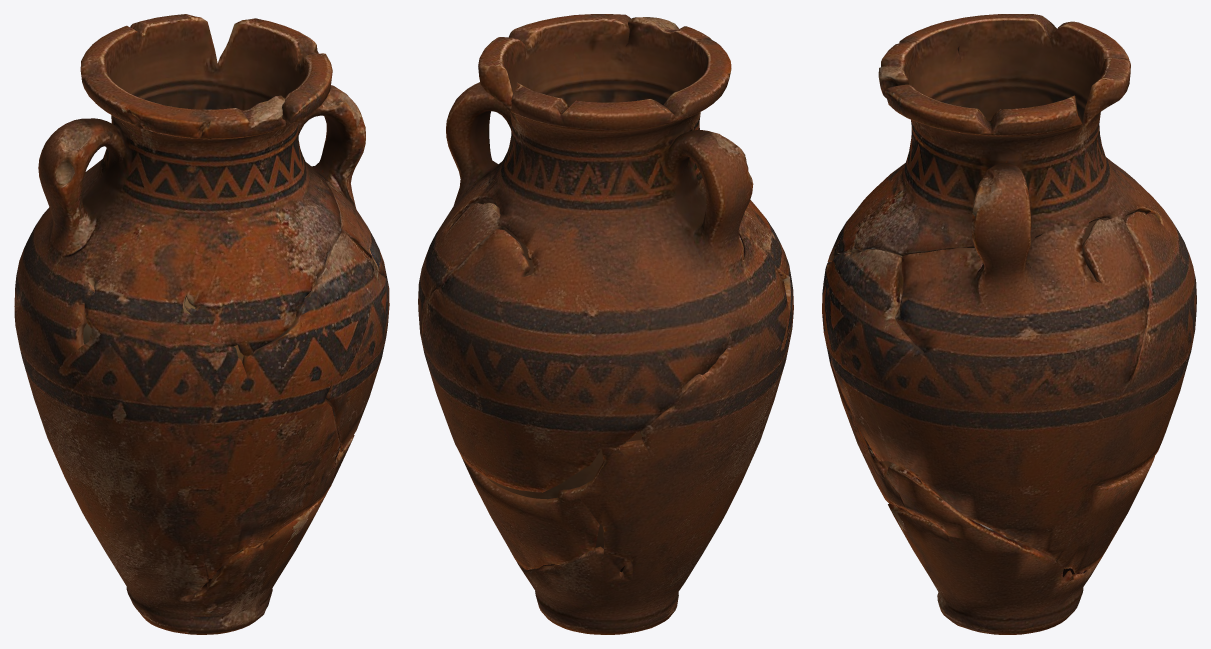
File: prop_vase.glb
The picture shows the model from 3 angles, left to right: view 1: azimuth 30°, elevation 25°; view 2: azimuth 150°, elevation 25°; view 3: azimuth 270°, elevation 25°; orthographic projection.
Visible parts, largest first — view 1: tripo_node_e1c7d212-960f-4912-b3c3-7ca4f0c8fded; view 2: tripo_node_e1c7d212-960f-4912-b3c3-7ca4f0c8fded; view 3: tripo_node_e1c7d212-960f-4912-b3c3-7ca4f0c8fded.
Boxes of the visible parts, x1,y1,x2,y2 form: tripo_node_e1c7d212-960f-4912-b3c3-7ca4f0c8fded: [14, 14, 389, 634]; tripo_node_e1c7d212-960f-4912-b3c3-7ca4f0c8fded: [418, 14, 793, 634]; tripo_node_e1c7d212-960f-4912-b3c3-7ca4f0c8fded: [822, 14, 1196, 634].
Size of the model in its own units: 0.6157 by 0.9995 by 0.6157.
1 material, 1 textured.
